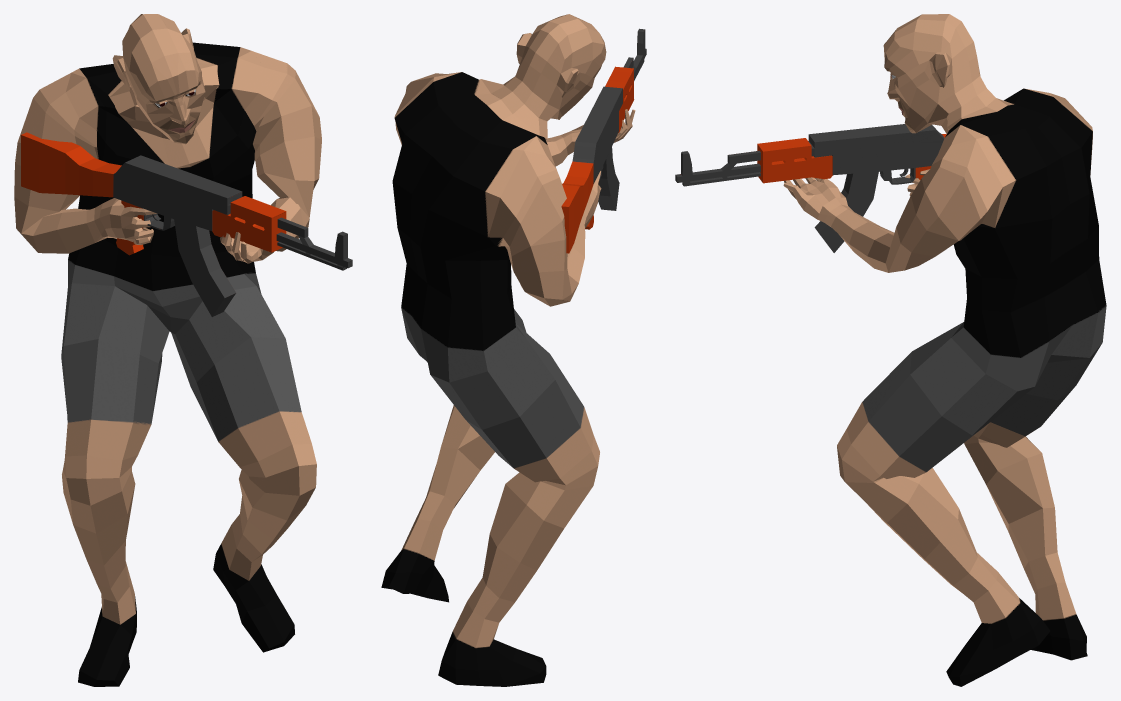
Rendered from PlayerWalk(0).obj.
3 views of the same model, side by side, from view 1: azimuth 30°, elevation 25°; view 2: azimuth 150°, elevation 25°; view 3: azimuth 270°, elevation 25° (orthographic). The views are drawn at different scales.
Visible parts, largest first — view 1: Plane002, Object001; view 2: Plane002, Object001; view 3: Plane002, Object001.
Part boxes in pixels (bbox=[...]): Plane002: bbox=[14, 14, 321, 686]; Object001: bbox=[21, 132, 352, 316]; Plane002: bbox=[381, 14, 635, 686]; Object001: bbox=[561, 28, 646, 253]; Plane002: bbox=[783, 14, 1106, 686]; Object001: bbox=[675, 124, 946, 252].
Size of the model in its own units: 573 by 1590 by 988.
